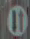Two way: (4, 4, 28, 38)
